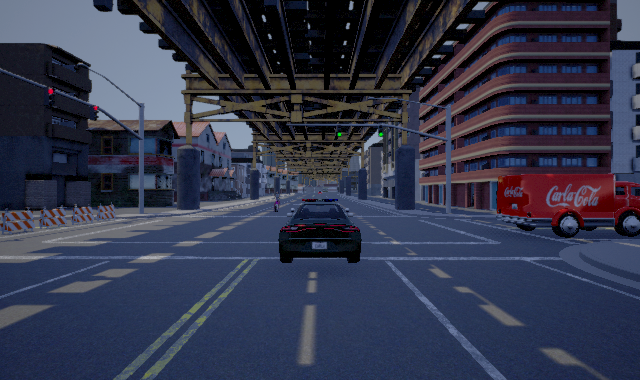traffic_light: (44, 87, 55, 107), (90, 105, 99, 121), (378, 125, 383, 137), (337, 125, 341, 137)
vehicle: (496, 173, 640, 238), (278, 199, 362, 263)
